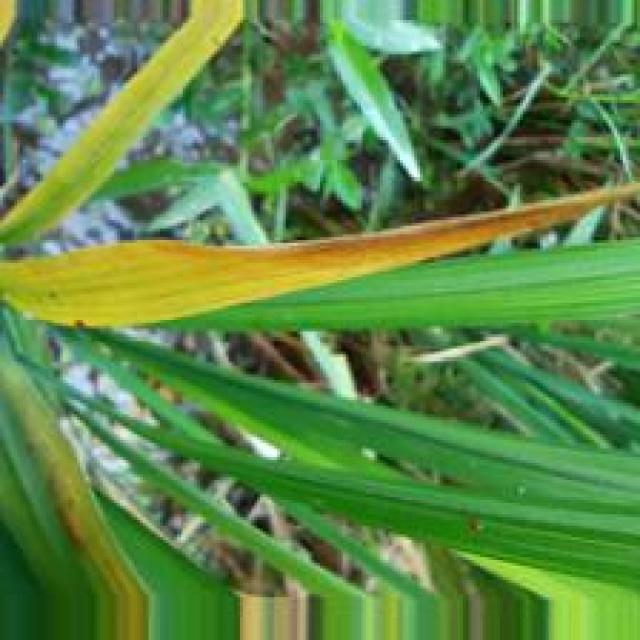Leaf_Scald: (156, 198, 587, 267)
